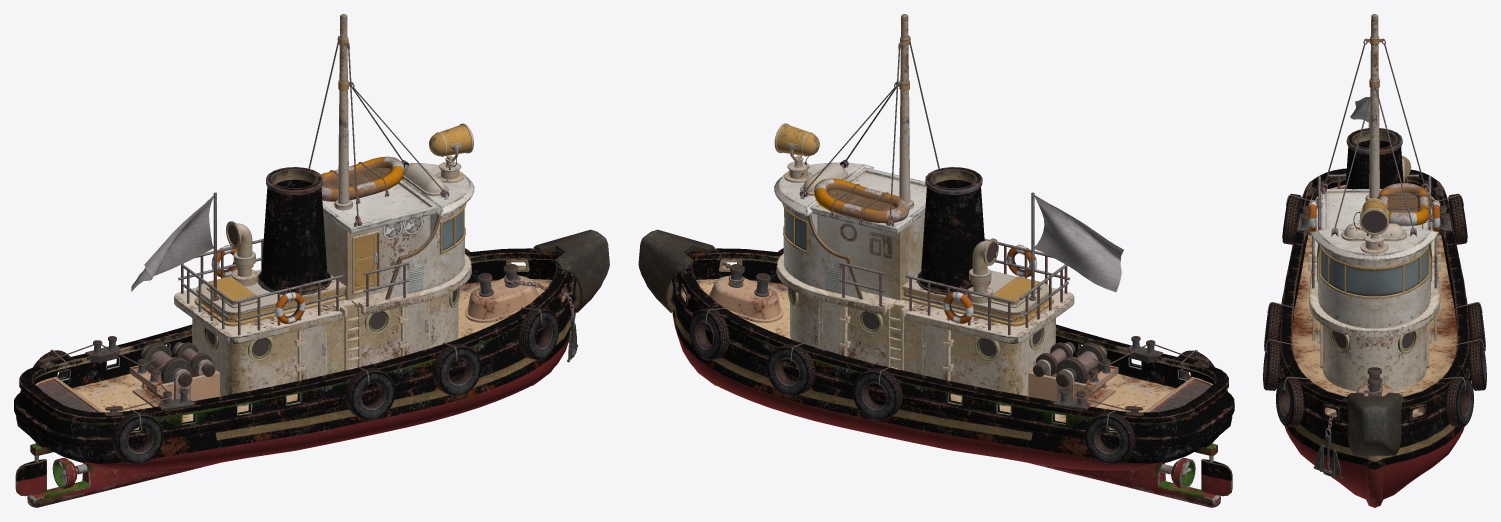
File: tugboat.glb
3 renders of one model, left to right at view 1: azimuth 30°, elevation 25°; view 2: azimuth 150°, elevation 25°; view 3: azimuth 270°, elevation 25°, orthographic. The views are drawn at different scales.
Parts seen in each view (by area): view 1: LowerDeck, UpperDeck, LowerDeck_Glass, UpperDeck_Glass; view 2: LowerDeck, UpperDeck, LowerDeck_Glass, UpperDeck_Glass; view 3: LowerDeck, UpperDeck, UpperDeck_Glass, LowerDeck_Glass.
Part boxes in pixels (x1=…): LowerDeck: x1=14, y1=36, x2=609, y2=507; UpperDeck: x1=131, y1=14, x2=474, y2=406; LowerDeck_Glass: x1=38, y1=290, x2=456, y2=412; UpperDeck_Glass: x1=228, y1=210, x2=463, y2=250; LowerDeck: x1=638, y1=36, x2=1234, y2=507; UpperDeck: x1=774, y1=14, x2=1123, y2=406; LowerDeck_Glass: x1=791, y1=290, x2=1210, y2=412; UpperDeck_Glass: x1=785, y1=210, x2=996, y2=262; LowerDeck: x1=1263, y1=38, x2=1486, y2=507; UpperDeck: x1=1309, y1=14, x2=1440, y2=391; UpperDeck_Glass: x1=1321, y1=250, x2=1427, y2=296; LowerDeck_Glass: x1=1316, y1=188, x2=1432, y2=348.
Size of the model in its own units: 33.31 by 22.49 by 11.26.
2 materials, 2 textured.
